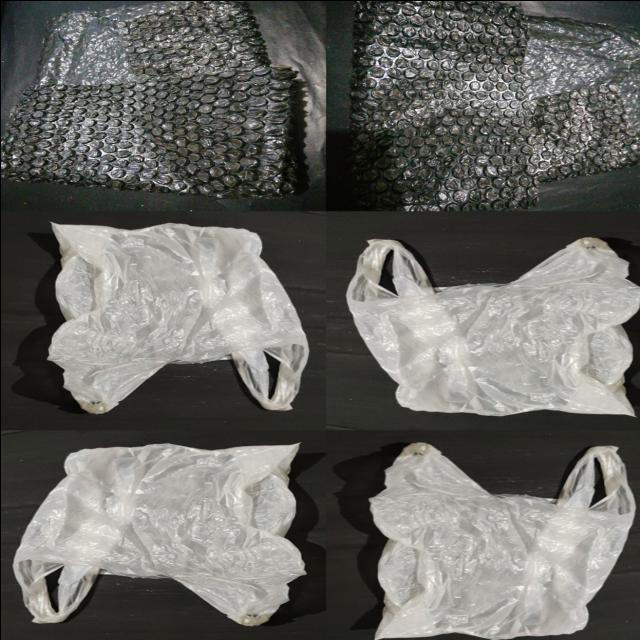plastik: (350, 0, 640, 209), (0, 0, 298, 197), (12, 443, 304, 625), (346, 237, 640, 415), (369, 442, 634, 638), (48, 222, 307, 412)
